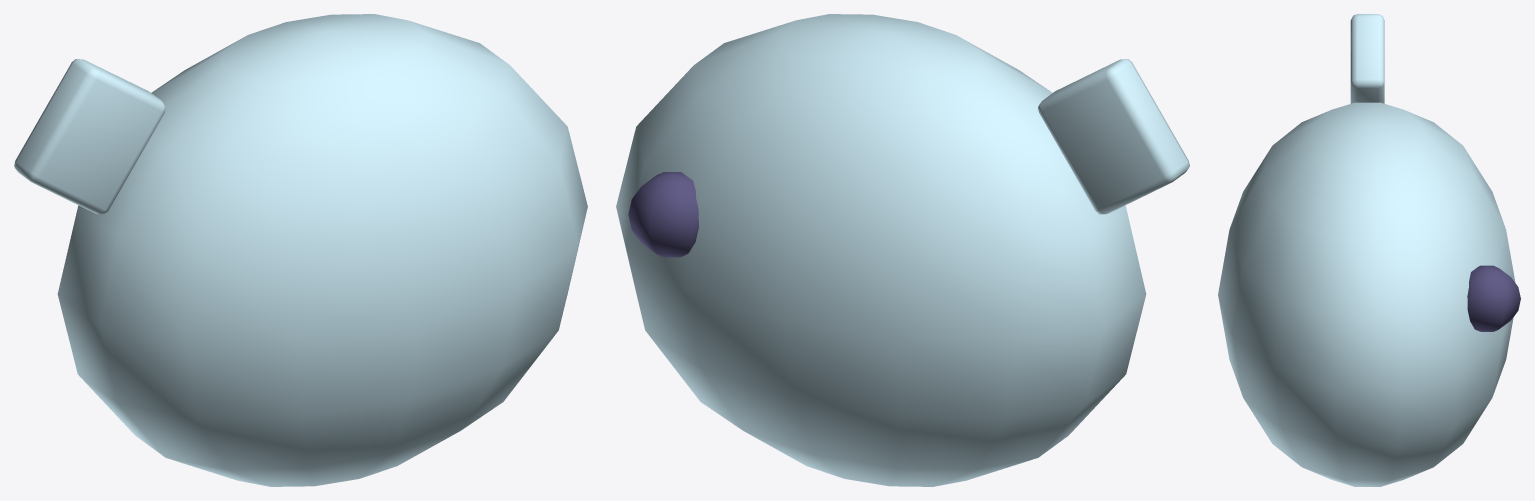
The model's file is opera_silly_fish.glb.
3 views of the same model, side by side, from view 1: azimuth 30°, elevation 25°; view 2: azimuth 150°, elevation 25°; view 3: azimuth 270°, elevation 25° (orthographic). The views are drawn at different scales.
Visible parts, largest first — view 1: fish_body, tail; view 2: fish_body, tail, eye; view 3: fish_body, tail, eye.
Boxes of the visible parts, bbox=[...] form: fish_body: bbox=[57, 14, 587, 486]; tail: bbox=[14, 59, 165, 214]; fish_body: bbox=[616, 14, 1146, 486]; tail: bbox=[1038, 59, 1189, 214]; eye: bbox=[628, 172, 699, 257]; fish_body: bbox=[1218, 102, 1515, 486]; tail: bbox=[1350, 14, 1384, 103]; eye: bbox=[1467, 265, 1520, 331].
Bounding box in the file's own units: 1.44 × 1.17 × 0.89.
